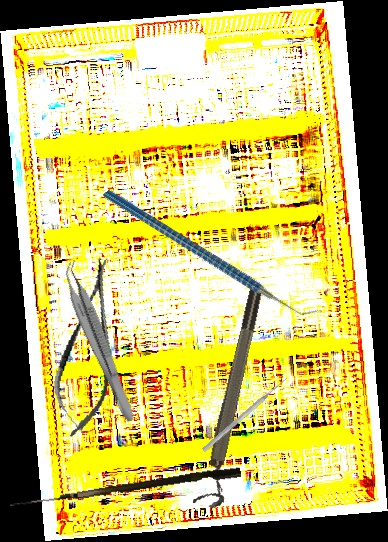Chopper: (102, 133, 323, 373)
Fixation Ring: (192, 286, 276, 511)
Hook Surgical: (9, 462, 242, 518)
Micro Scissor: (43, 252, 135, 443)
Pusher: (201, 375, 289, 454)
Tissue Forceps: (54, 259, 146, 424)
